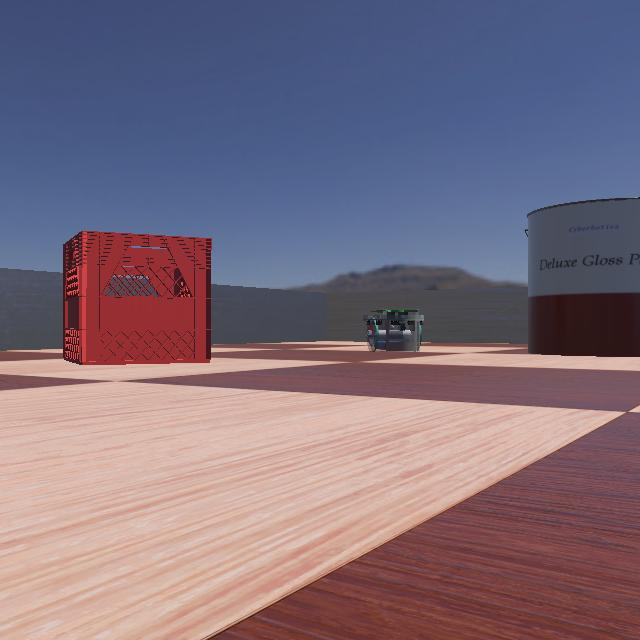paint-bucket: (498, 196, 640, 360), (498, 196, 640, 360)
plastic-crate: (19, 230, 225, 366)
